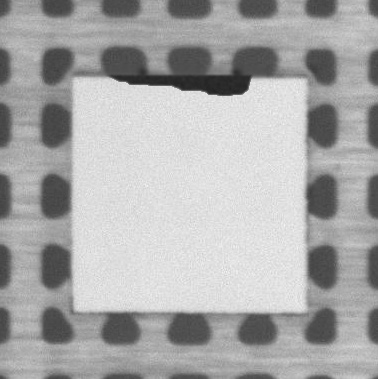DIE_BROKEN: (105, 72, 255, 96)
